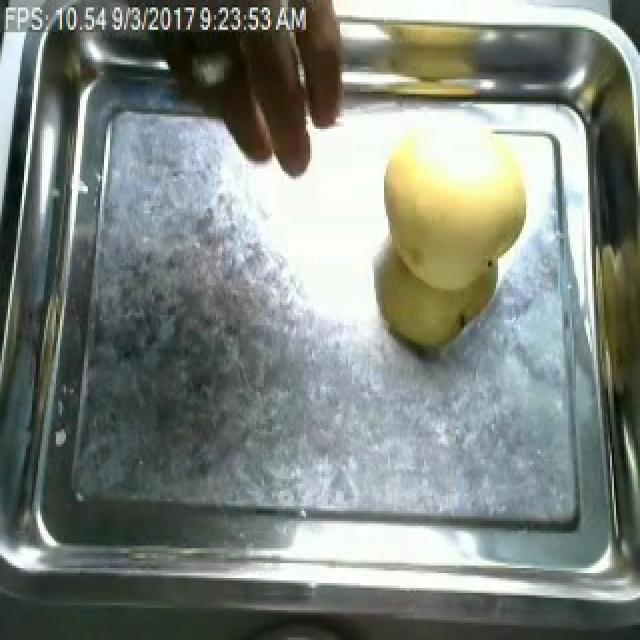Fruit: (372, 104, 544, 298)
